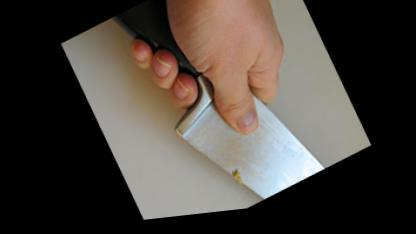knife: (123, 4, 350, 222)
